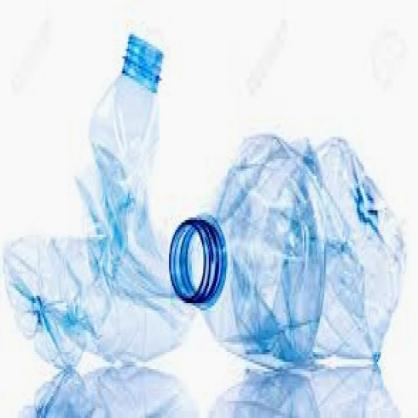bottle: (2, 33, 192, 365), (170, 124, 409, 378)
